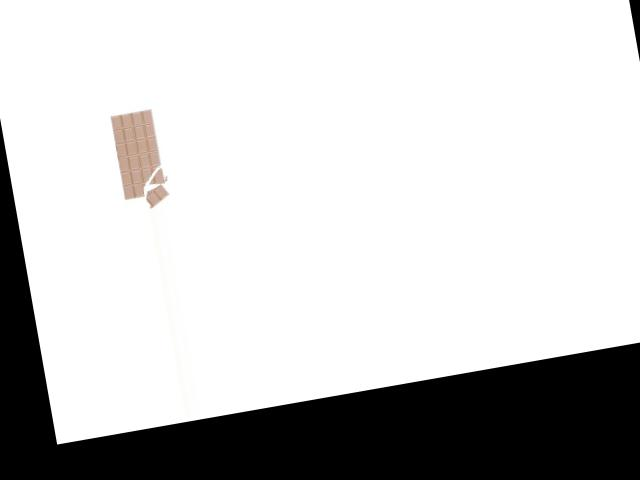chocolate: (103, 105, 181, 214)
